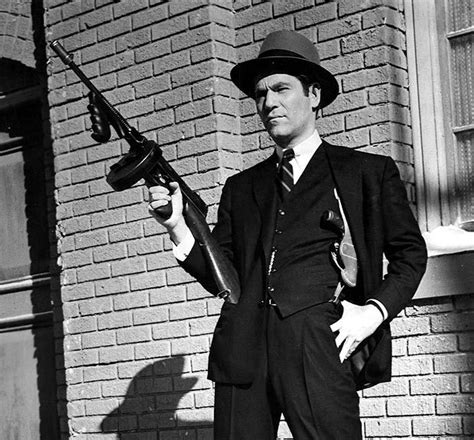gun: (49, 39, 242, 306)
